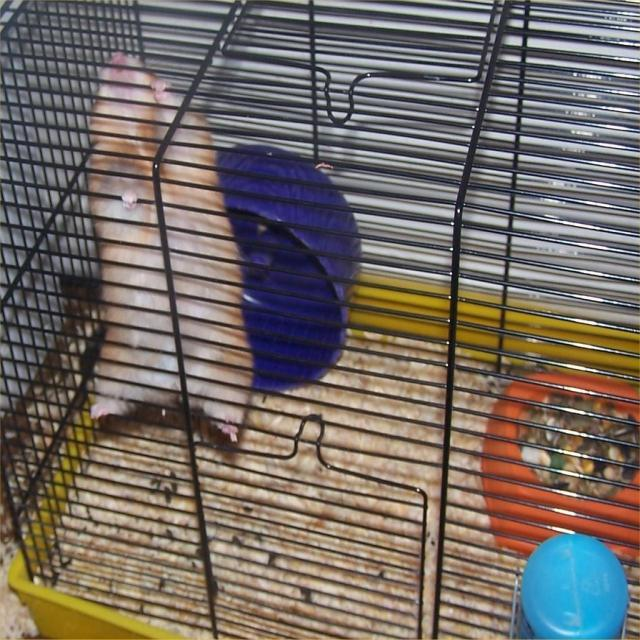rat: (88, 52, 254, 442)
